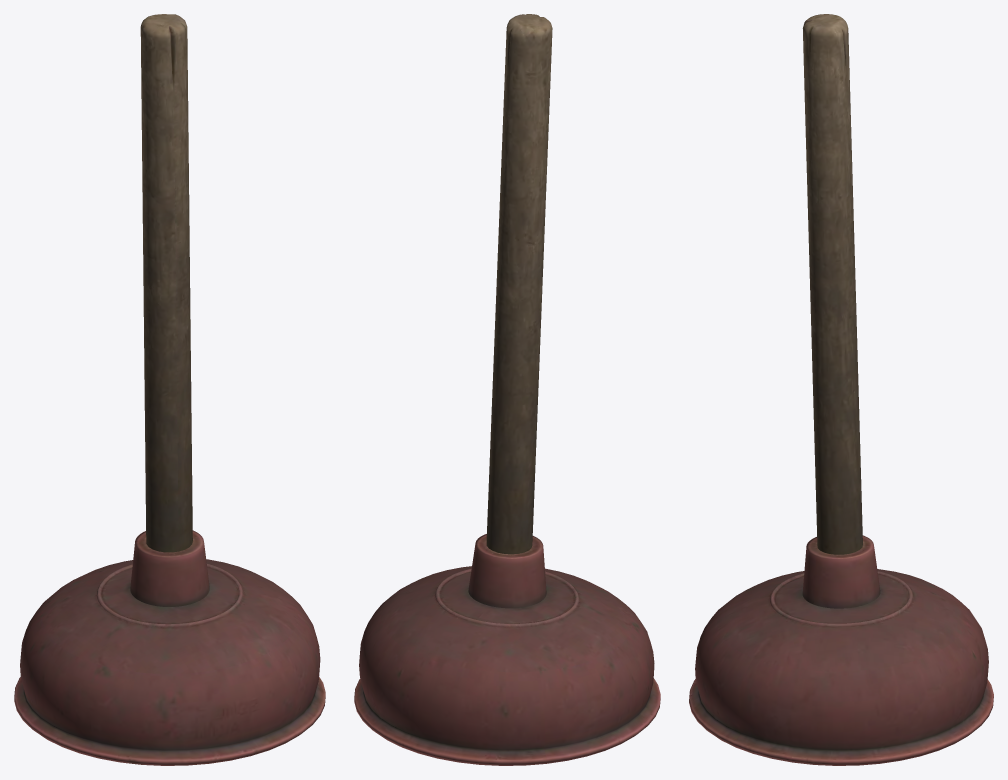
File: plunger.glb
The picture shows the model from 3 angles, left to right: view 1: azimuth 30°, elevation 25°; view 2: azimuth 150°, elevation 25°; view 3: azimuth 270°, elevation 25°; orthographic projection. The views are drawn at different scales.
Parts seen in each view (by area): view 1: plunger; view 2: plunger; view 3: plunger.
Part boxes in pixels (<box>): plunger: <box>14,14,325,765</box>; plunger: <box>354,14,660,765</box>; plunger: <box>689,14,993,765</box>.
Bounding box in the file's own units: 0.1721 × 0.4211 × 0.1721.
1 material, 1 textured.
